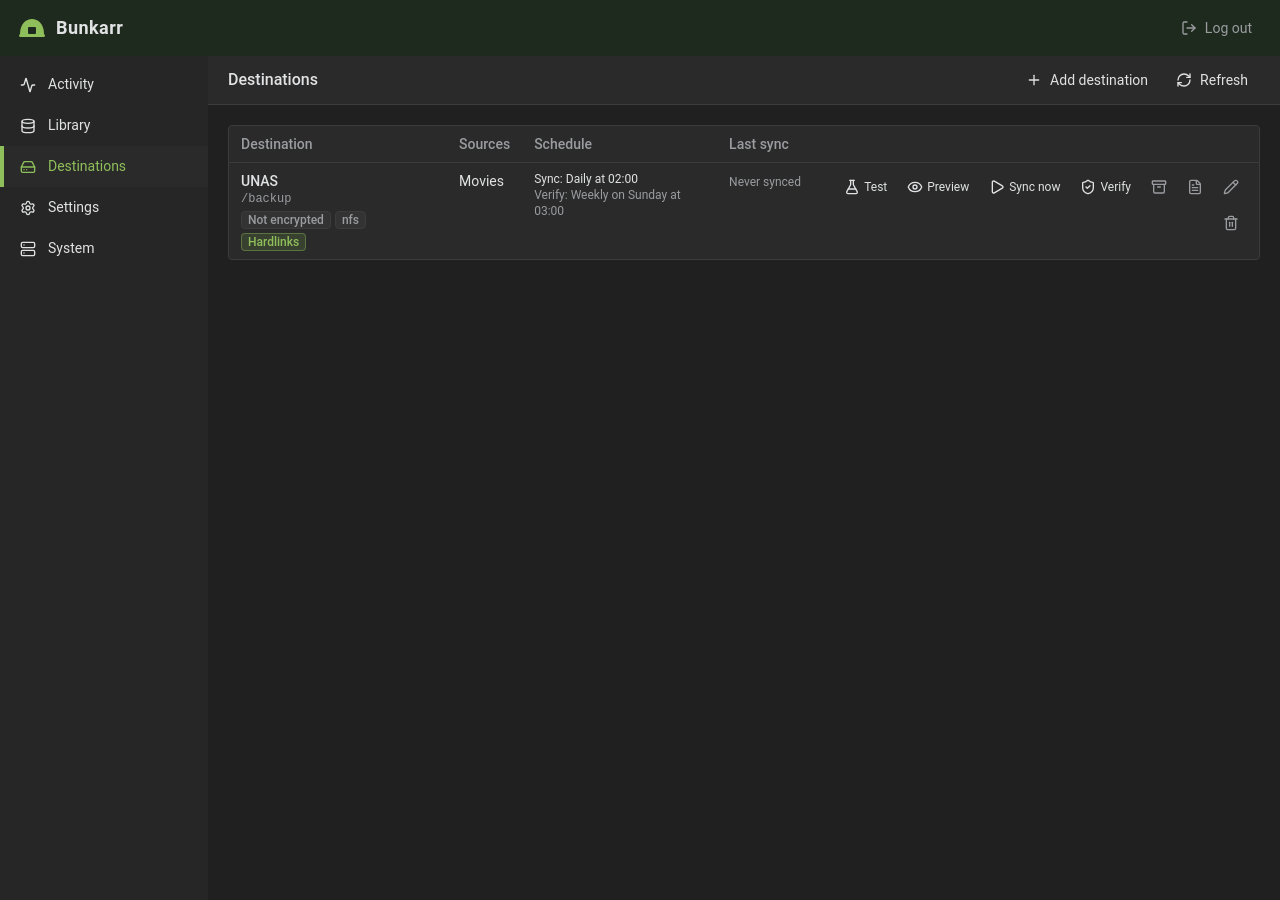
Scenario: Manifests dialog › lists the versions with verified downloads, and none for a damaged one
The image size is (1280, 900).
Click the button named "Manifests on ".
click(1195, 187)  # box [1179, 171, 1211, 203]
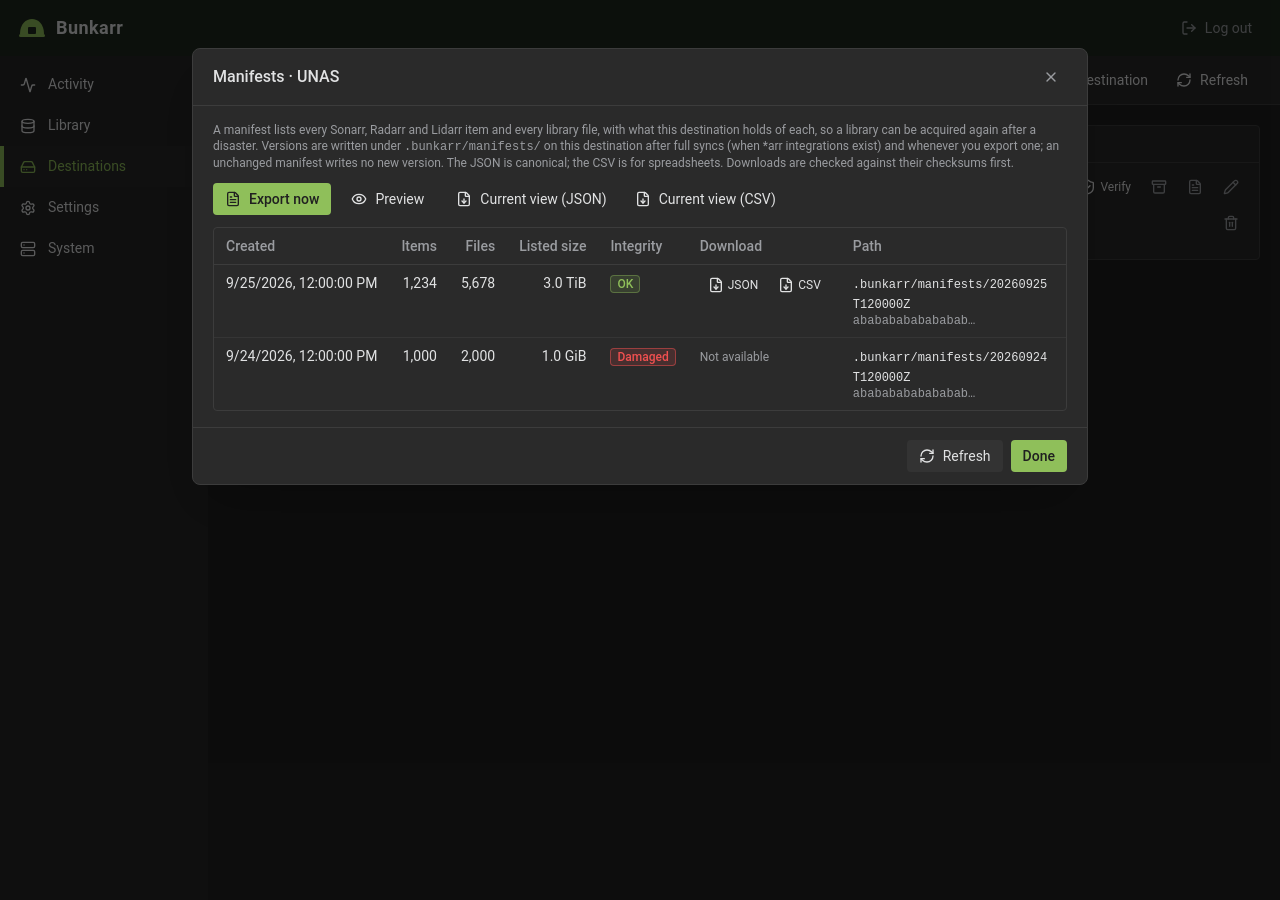
Now the text "1,234" is shown, box [389, 265, 449, 338]
Now the text "5,678" is shown, box [449, 265, 507, 338]
Now the text "3.0 TiB" is shown, box [507, 265, 598, 338]
